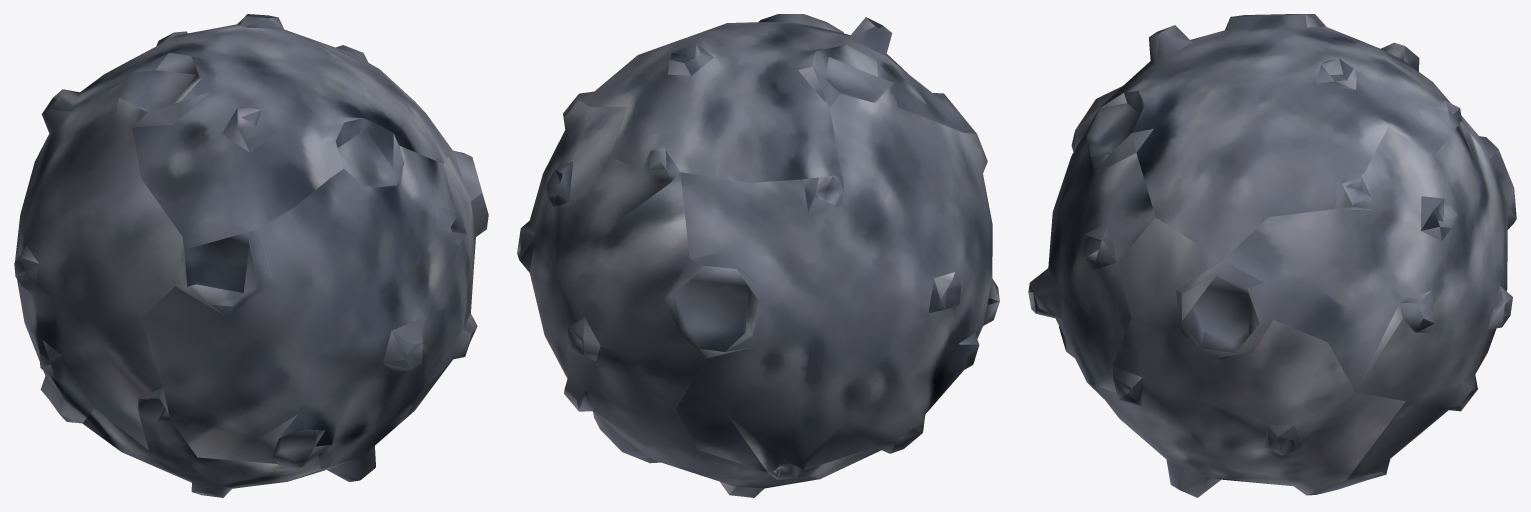
Rendered from moon.fbx.
The picture shows the model from 3 angles, left to right: view 1: azimuth 30°, elevation 25°; view 2: azimuth 150°, elevation 25°; view 3: azimuth 270°, elevation 25°; orthographic projection.
Visible parts, largest first — view 1: Moon; view 2: Moon; view 3: Moon.
Part boxes in pixels (x1,y1,x2,y2): Moon: [14, 14, 488, 497]; Moon: [517, 14, 999, 497]; Moon: [1028, 14, 1516, 497].
Bounding box in the file's own units: 1506 × 1510 × 1454.
Materials: 1 (1 with a texture image).
